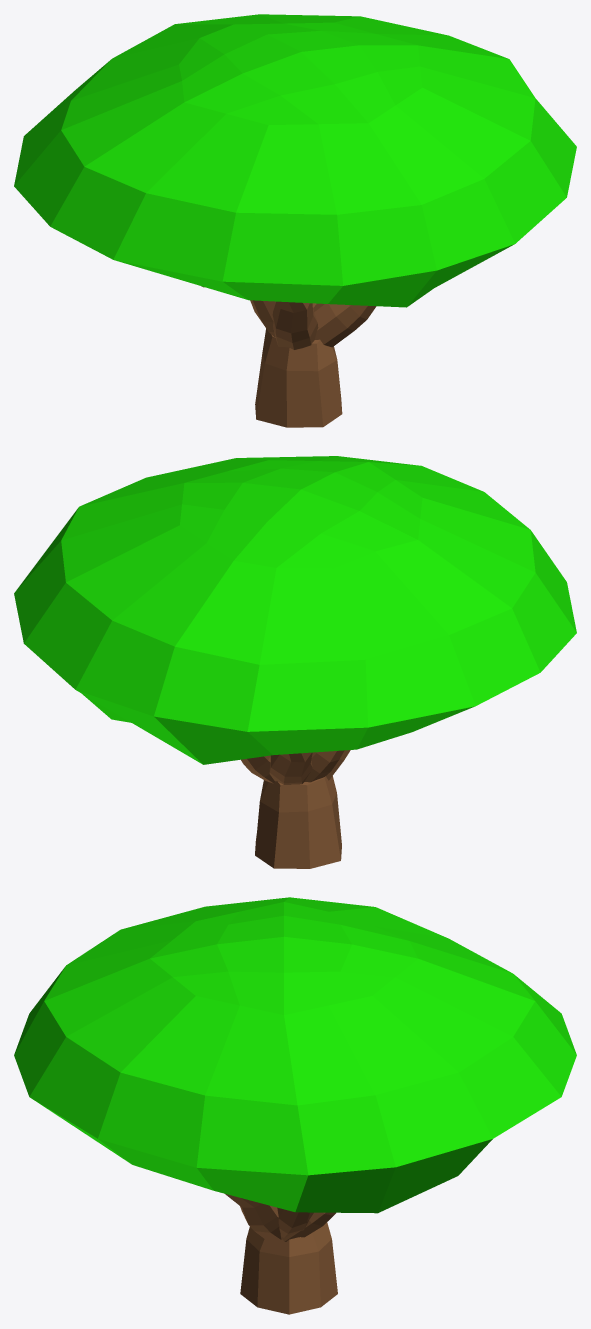
The model's file is carvalho_1.fbx.
3 views of the same model, one above another, from view 1: azimuth 30°, elevation 25°; view 2: azimuth 150°, elevation 25°; view 3: azimuth 270°, elevation 25° (orthographic).
Visible parts, largest first — view 1: copa, toco, Cube.001, Cube.002; view 2: copa, toco, Cube.002, Cube.001; view 3: copa, toco, Cube.001, Cube.002.
Boxes of the visible parts, box(x1,y1,x2,y2) form: copa: box(14, 14, 576, 307); toco: box(255, 328, 342, 427); Cube.001: box(250, 300, 376, 347); Cube.002: box(201, 286, 318, 349); copa: box(14, 456, 576, 764); toco: box(255, 776, 341, 868); Cube.002: box(269, 750, 350, 784); Cube.001: box(241, 750, 344, 783); copa: box(14, 897, 576, 1213); toco: box(240, 1222, 337, 1314); Cube.001: box(225, 1194, 335, 1241); Cube.002: box(277, 1207, 313, 1239).
Size of the model in its own units: 2510 by 1749 by 2499.
